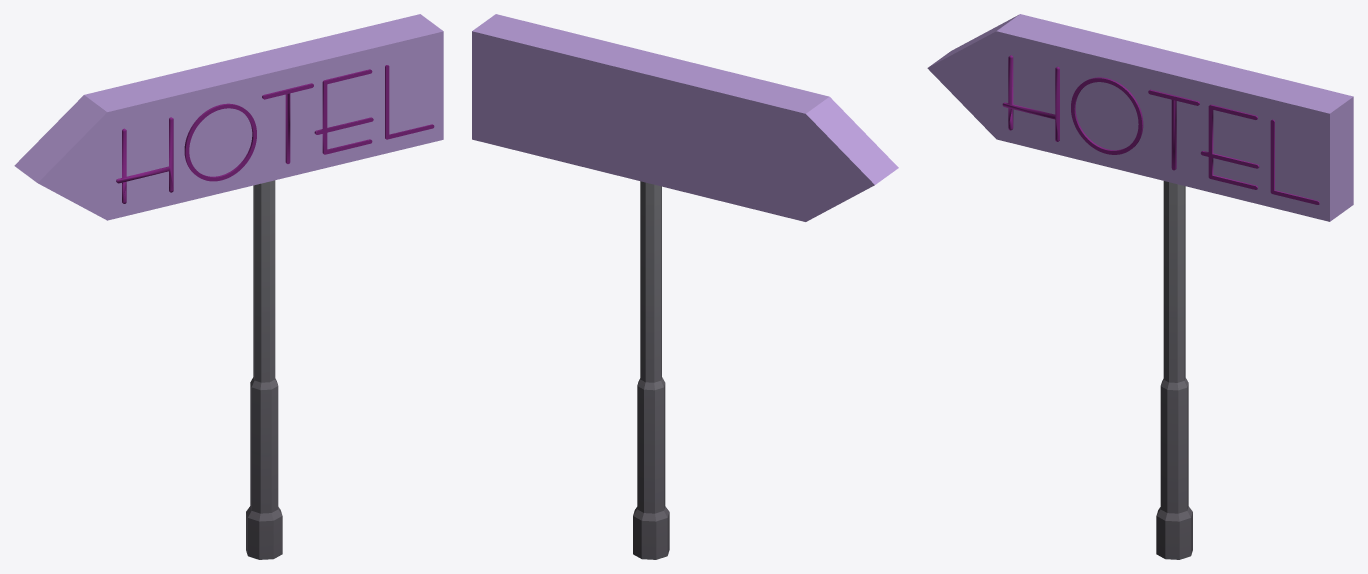
The model's file is Hotel_sign_05.fbx.
3 views of the same model, side by side, from view 1: azimuth 30°, elevation 25°; view 2: azimuth 150°, elevation 25°; view 3: azimuth 330°, elevation 25° (orthographic).
Parts seen in each view (by area): view 1: Hotel_sign_05; view 2: Hotel_sign_05; view 3: Hotel_sign_05.
Part boxes in pixels (x1,y1,x2,y2): Hotel_sign_05: (14, 14, 443, 559); Hotel_sign_05: (472, 14, 898, 559); Hotel_sign_05: (927, 14, 1353, 559).
Size of the model in its own units: 185 by 214 by 20.43.
